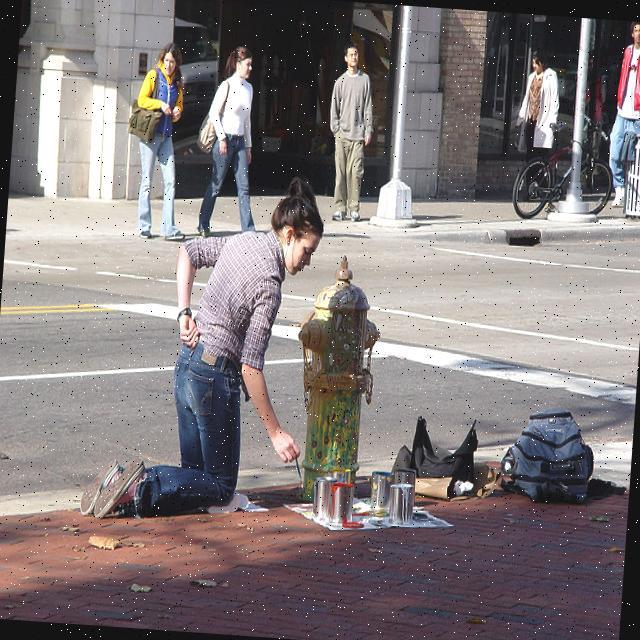fire_hydrant: (284, 252, 384, 506)
